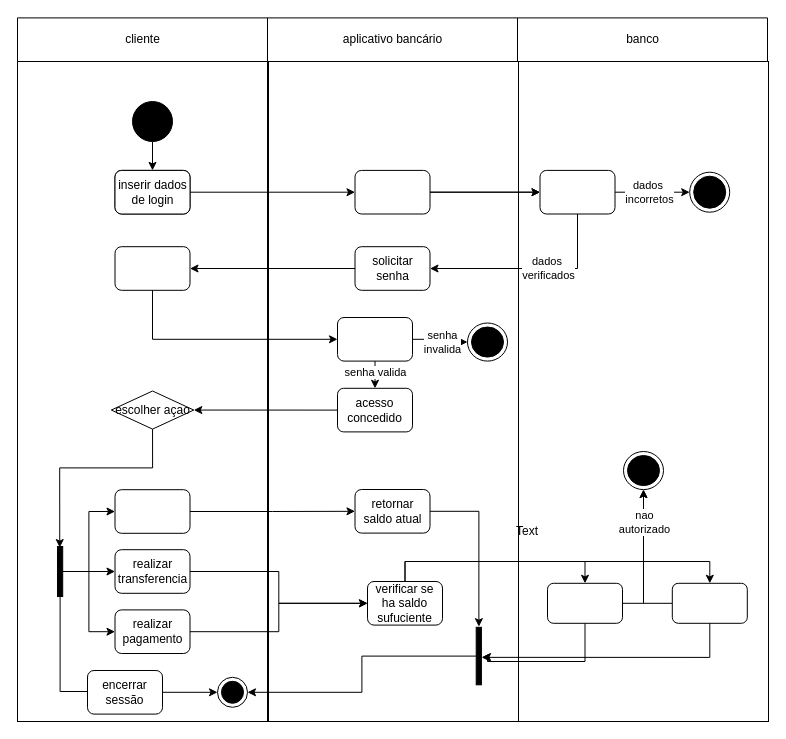
Image size: 786x739. Some labels were removed from this diagram. Here are the shapes that lost their labels. From the top down, the centre of each, then its label:
the point at 392,191: validar dados de login
the point at 577,191: verificar dados do cliente
the point at 152,268: digitar senha
the point at 374,338: validar senha
the point at 152,511: consultar saldo
the point at 584,602: autorizar pagamento
the point at 709,602: autorizar transferencia
